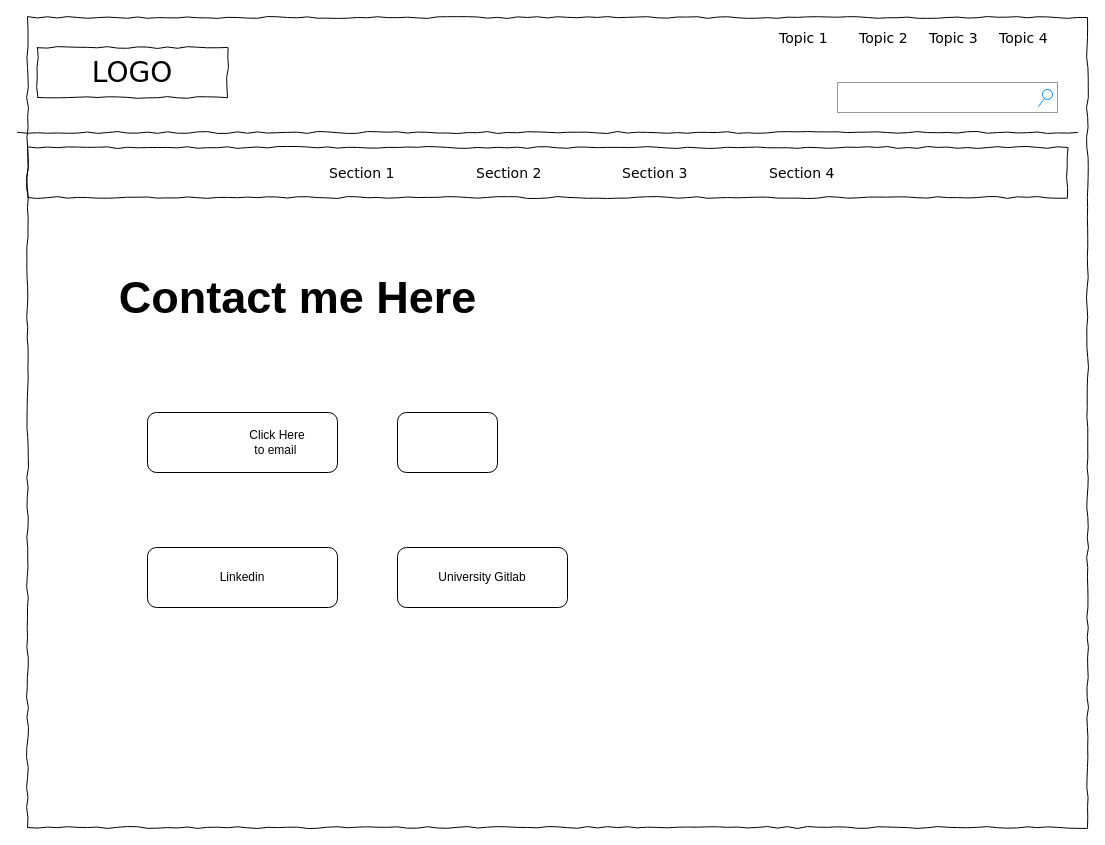
The diagram is 1105 pixels wide and 845 high, and some of its shapes have lost their labels. The centre of each missing label's shape, as x and y in pixels:
"Github" belongs at pixel 447 442.
"Search" belongs at pixel 947 97.
